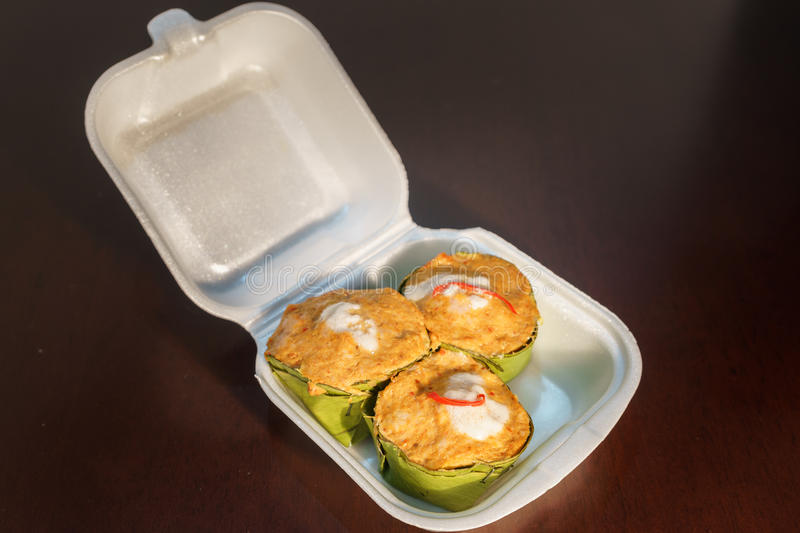Foam Box: (79, 1, 649, 533)
